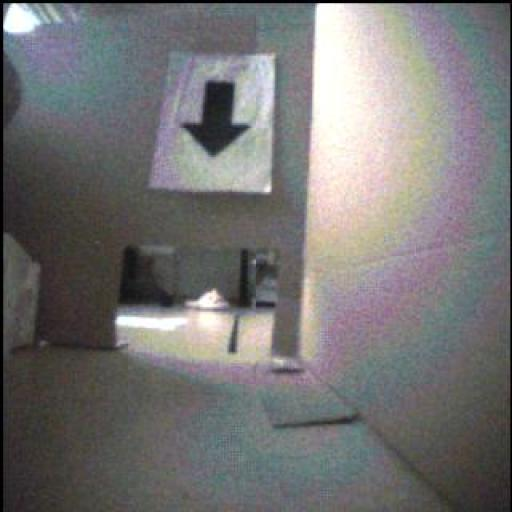arrow: (184, 83, 251, 158)
